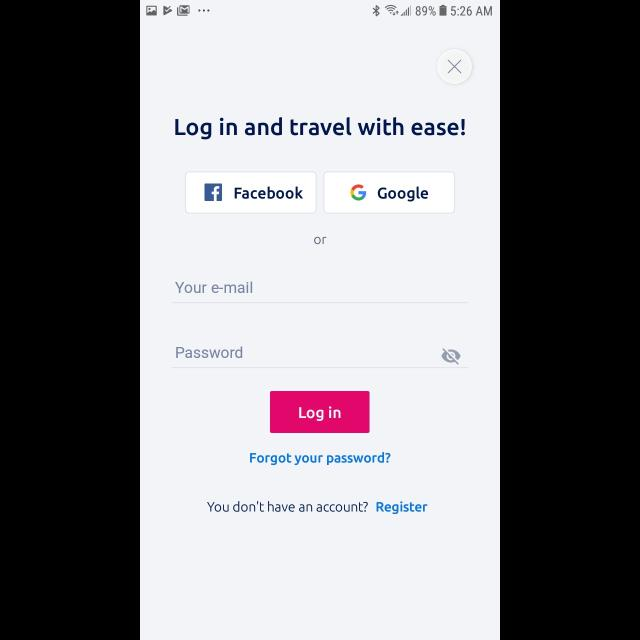icon: (436, 49, 472, 85), (441, 348, 461, 366)
input: (172, 346, 468, 368), (172, 282, 468, 304)
text: (175, 118, 465, 140), (250, 451, 390, 465), (208, 500, 368, 512), (175, 282, 252, 294), (177, 347, 243, 359), (376, 502, 428, 514), (314, 237, 326, 245)
textbutton: (186, 172, 316, 214), (324, 172, 454, 214), (270, 391, 370, 433)
uppertaskbar: (140, 1, 500, 18)
